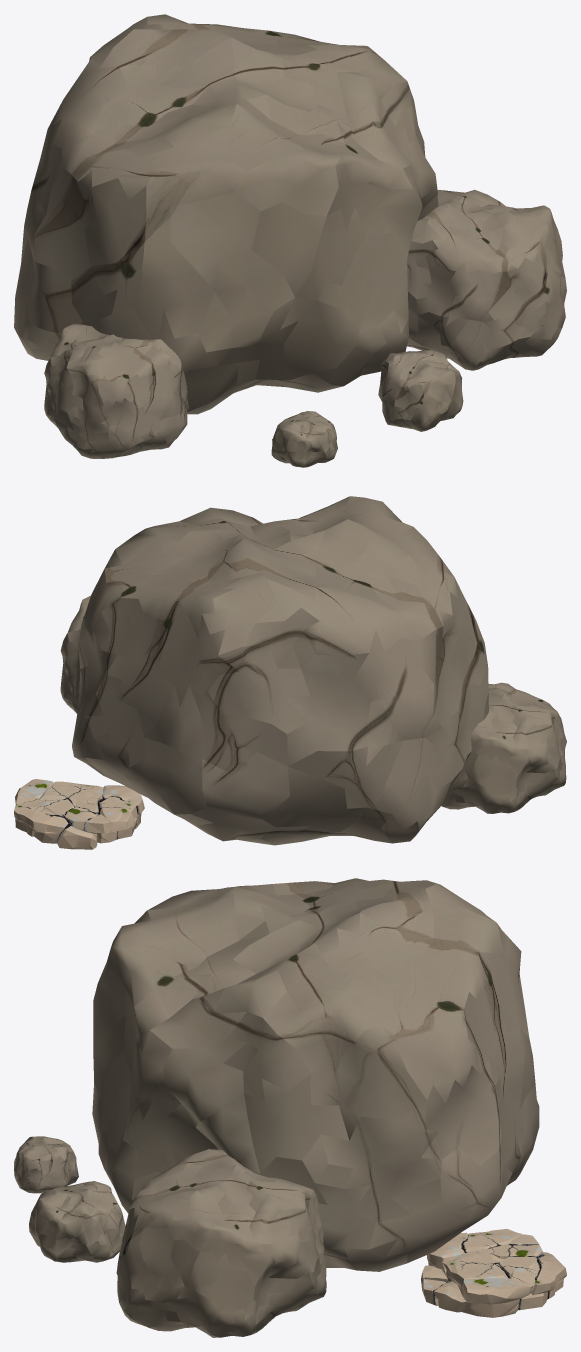
Rendered from BoulderCluster.glb.
3 renders of one model, top to bottom at view 1: azimuth 30°, elevation 25°; view 2: azimuth 150°, elevation 25°; view 3: azimuth 270°, elevation 25°, orthographic. The views are drawn at different scales.
Bounding box in the file's own units: 3.96 × 2.2 × 3.48.
2 materials, 2 textured.
